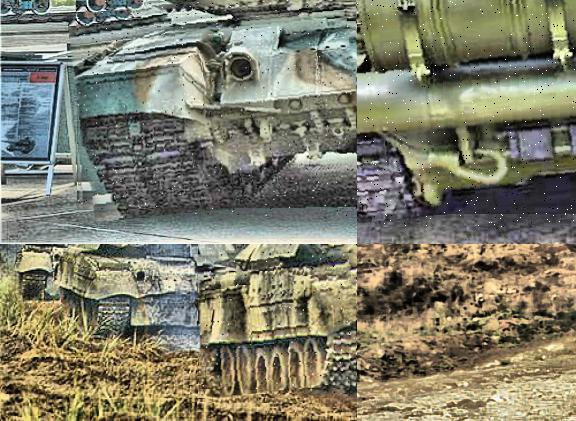tanks: (77, 1, 356, 219), (358, 1, 576, 224), (200, 245, 356, 395), (57, 245, 246, 337), (18, 245, 72, 301)
